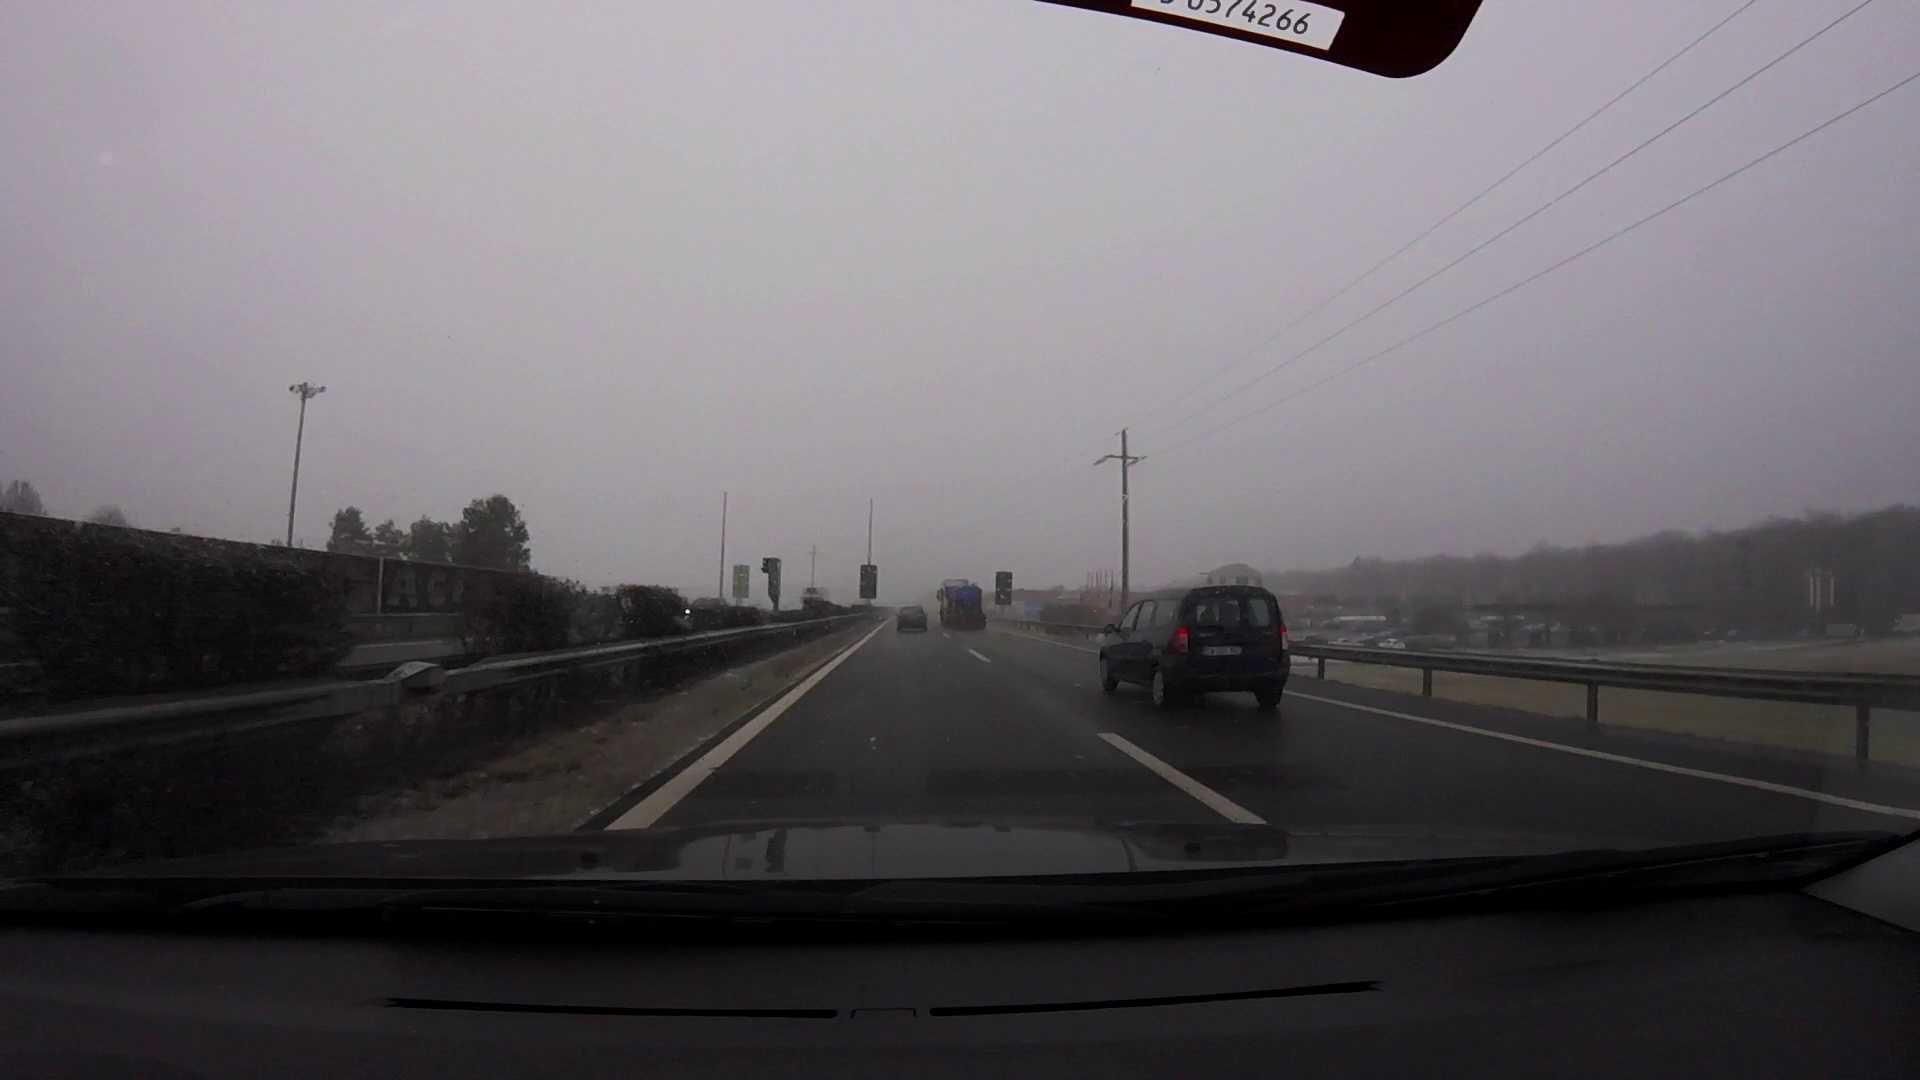radar: (760, 556, 785, 607)
